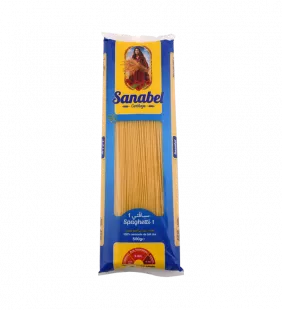SANABEL CARTHAGE: (91, 21, 189, 284)
